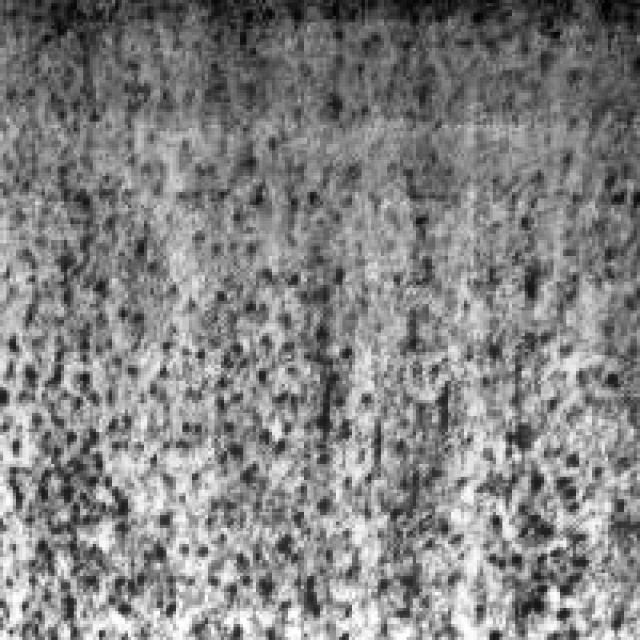Rolled_in_Scale: (0, 0, 627, 630)
